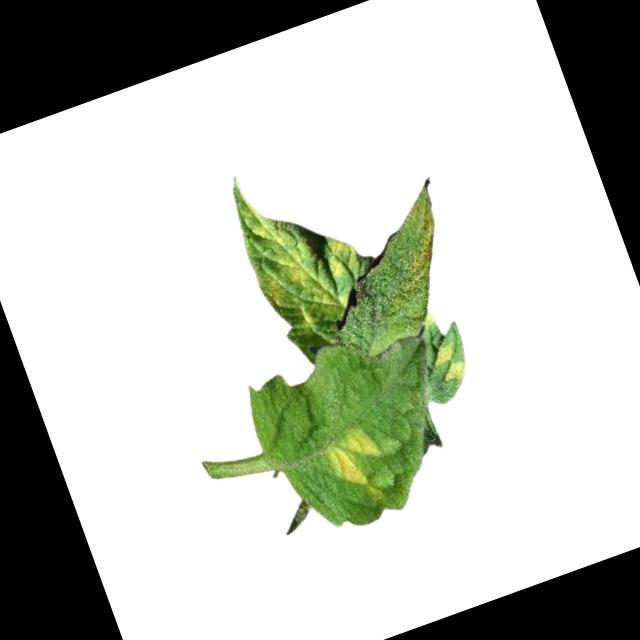Leaf_Mold: (219, 159, 376, 342), (320, 418, 391, 492), (425, 333, 473, 389)
